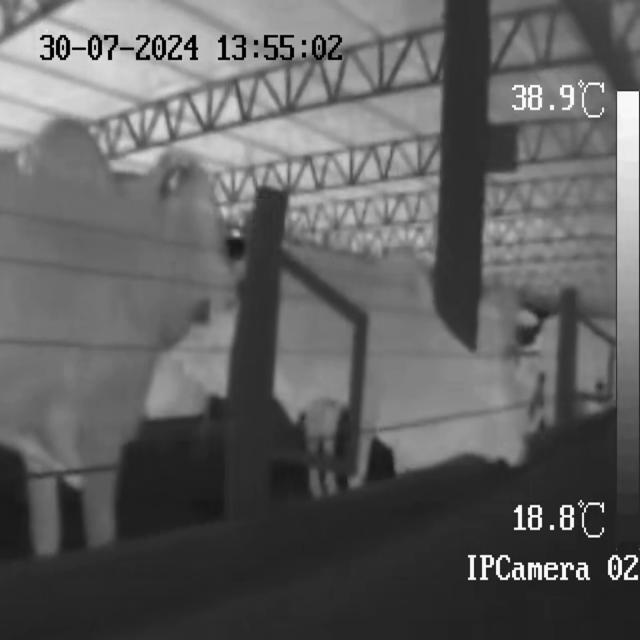eye: (194, 193, 216, 233)
head: (151, 157, 233, 330)
